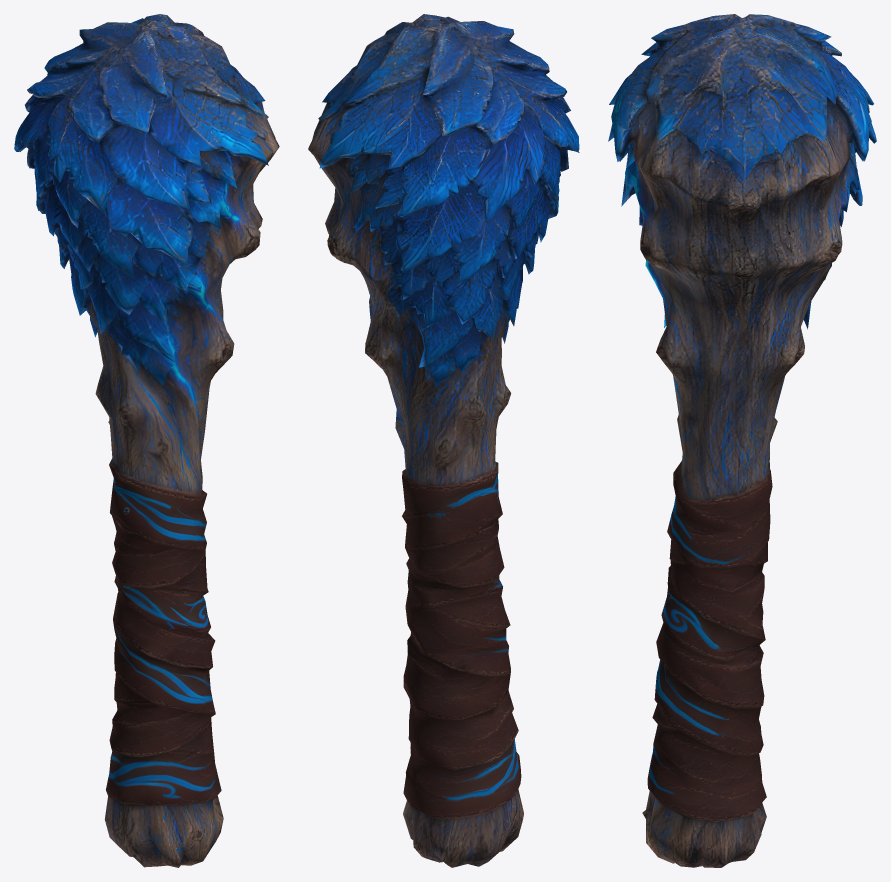
File: fantasy staff 3d model.glb
The picture shows the model from 3 angles, left to right: view 1: azimuth 30°, elevation 25°; view 2: azimuth 150°, elevation 25°; view 3: azimuth 270°, elevation 25°; orthographic projection. The views are drawn at different scales.
Visible parts, largest first — view 1: tripo_node_a000dae1-3451-4762-ba75-0c07a32ca5ce; view 2: tripo_node_a000dae1-3451-4762-ba75-0c07a32ca5ce; view 3: tripo_node_a000dae1-3451-4762-ba75-0c07a32ca5ce.
Part boxes in pixels (x1,y1,x2,y2): tripo_node_a000dae1-3451-4762-ba75-0c07a32ca5ce: (14, 14, 279, 867); tripo_node_a000dae1-3451-4762-ba75-0c07a32ca5ce: (308, 14, 579, 867); tripo_node_a000dae1-3451-4762-ba75-0c07a32ca5ce: (608, 14, 876, 867).
Size of the model in its own units: 0.2778 by 0.9823 by 0.2831.
Materials: 1 (1 with a texture image).
